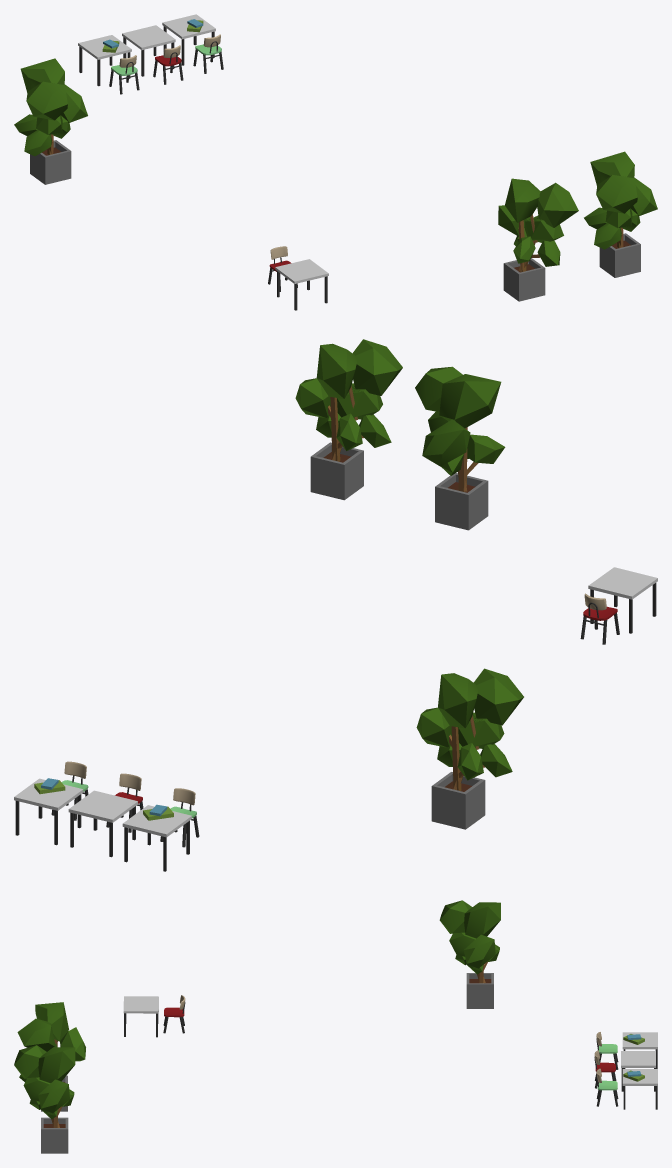
3 views of the same model, one above another, from view 1: azimuth 30°, elevation 25°; view 2: azimuth 150°, elevation 25°; view 3: azimuth 270°, elevation 25° (orthographic). The views are drawn at different scales.
Visible parts, largest first — view 1: 1er Tisch A.003; view 2: 1er Tisch A.003; view 3: 1er Tisch A.003.
Part boxes in pixels (left/top/right/bottom): 1er Tisch A.003: left=14, top=14, right=657, bottom=310; 1er Tisch A.003: left=14, top=339, right=657, bottom=871; 1er Tisch A.003: left=14, top=900, right=657, bottom=1153.
Bounding box in the file's own units: 12.78 × 3.45 × 20.01.
Materials: 2 (2 with a texture image).
